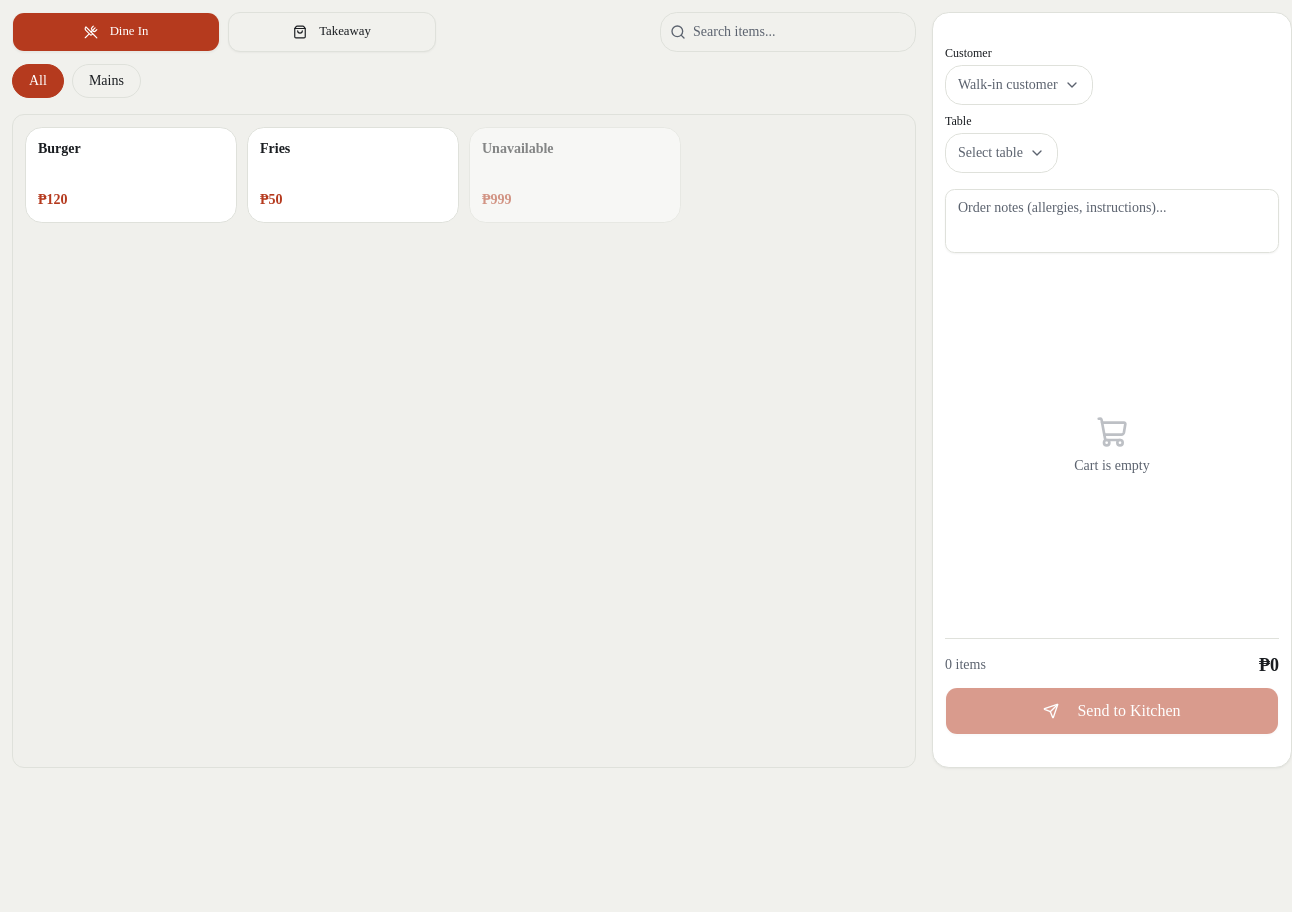
Test: PosOrderScreen › hides the table selector for non-dine-in order types
This screenshot has width=1292, height=912.
Expected: the text "Table" is shown, 945,114 -> 972,128
What coordinates should you click on to do the following:
click the button "takeaway"
I would click on:
 (332, 32)
Its box is 228,12 -> 436,52.
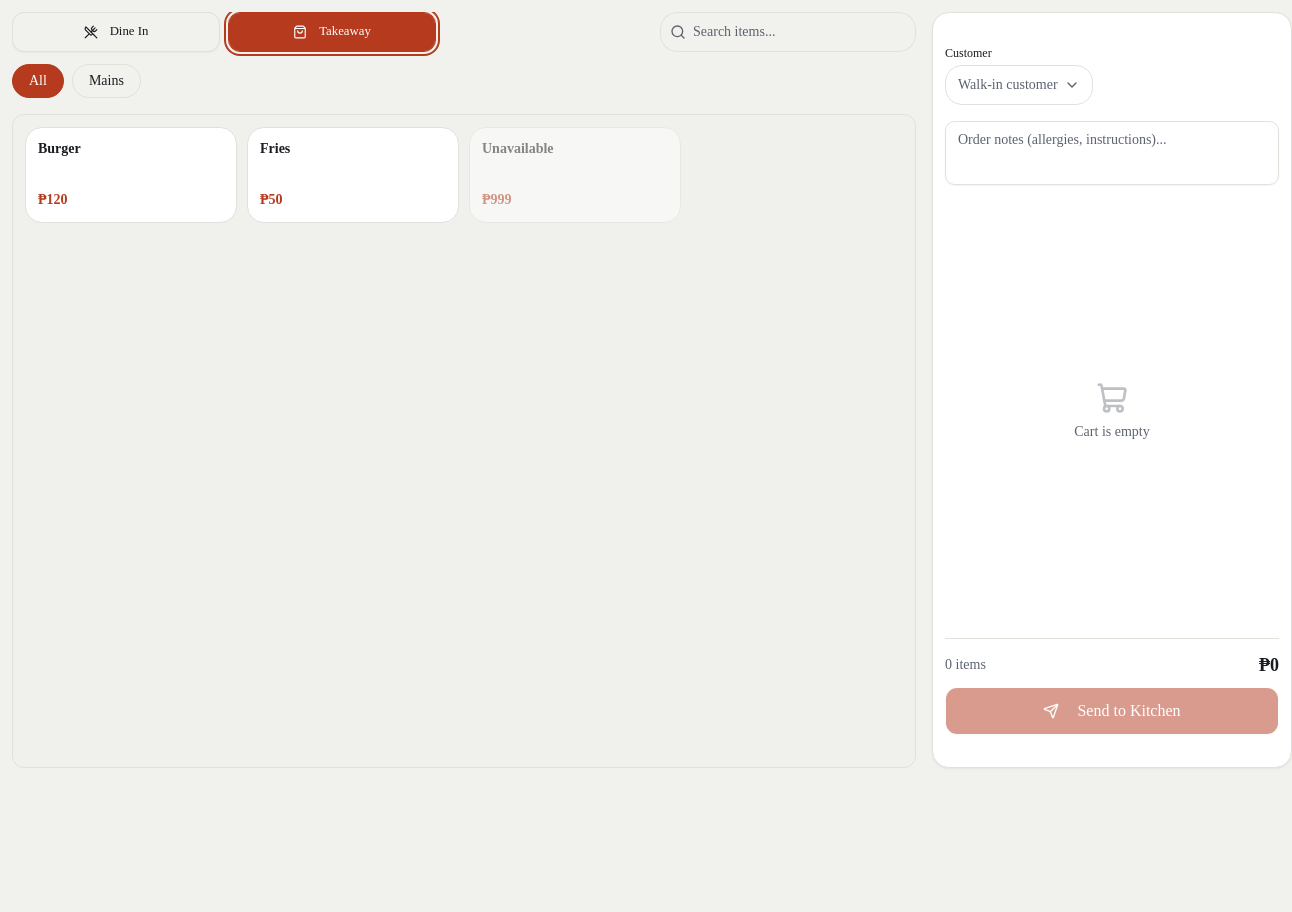
Expected: the text "Table" is gone
